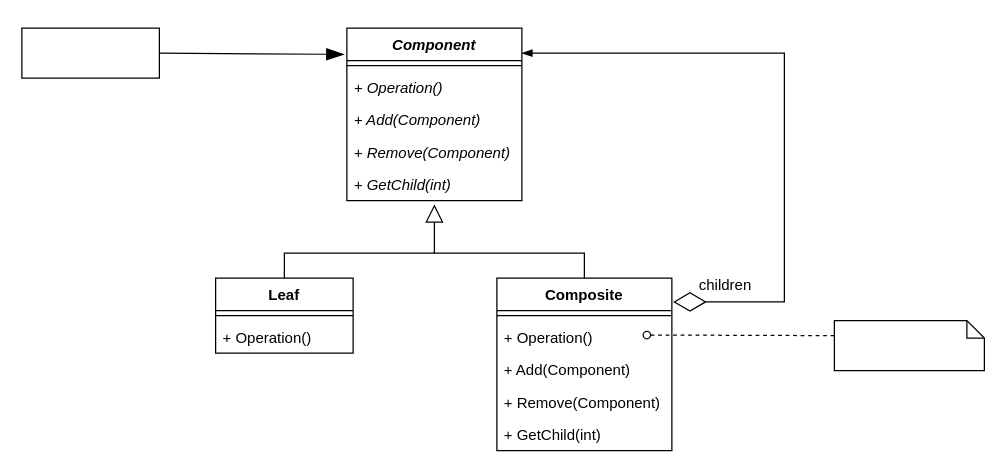
The diagram is 1006 pixels wide and 476 high, and some of its shapes have lost their labels. Each missing label, with the centre of its shape:
"Client" belongs at point (90, 52).
"for all g in children g->Operation();" belongs at point (908, 345).
